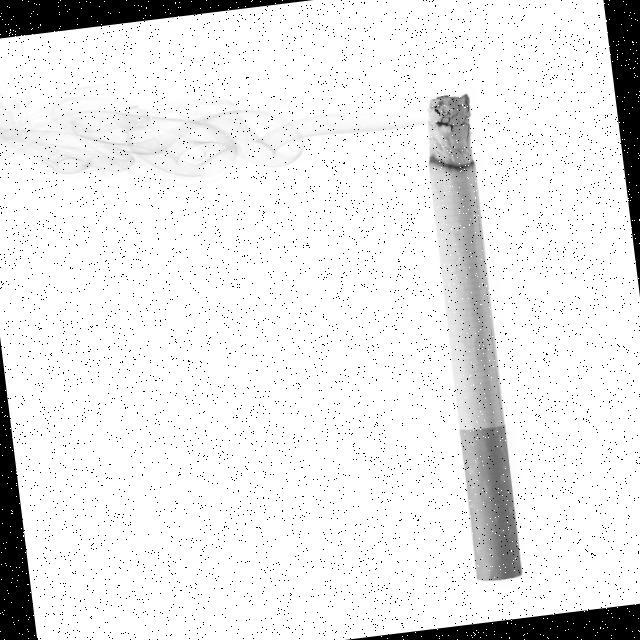cigarette: (410, 83, 538, 587)
